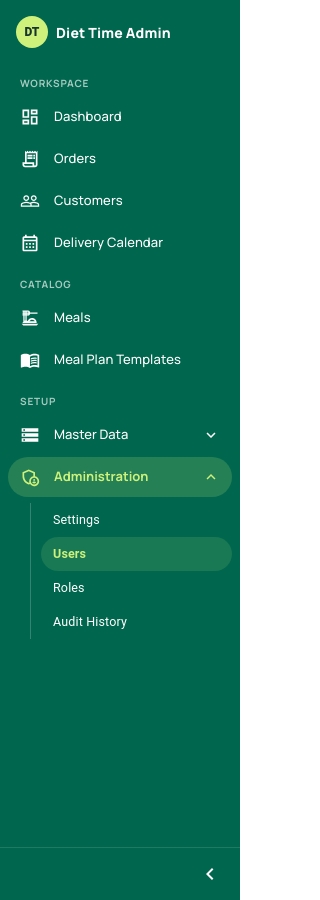
Setup navigation › opens only one setup group and filters individual master data links
Click the button "Master Data".
click(120, 435)  # box [8,415,232,455]
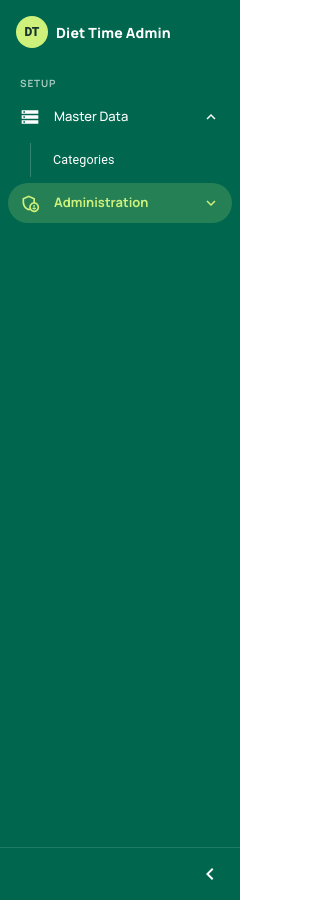
Result: the button "Administration" is collapsed at [8,183,232,223]
Result: the button "Master Data" is expanded at [8,97,232,137]
